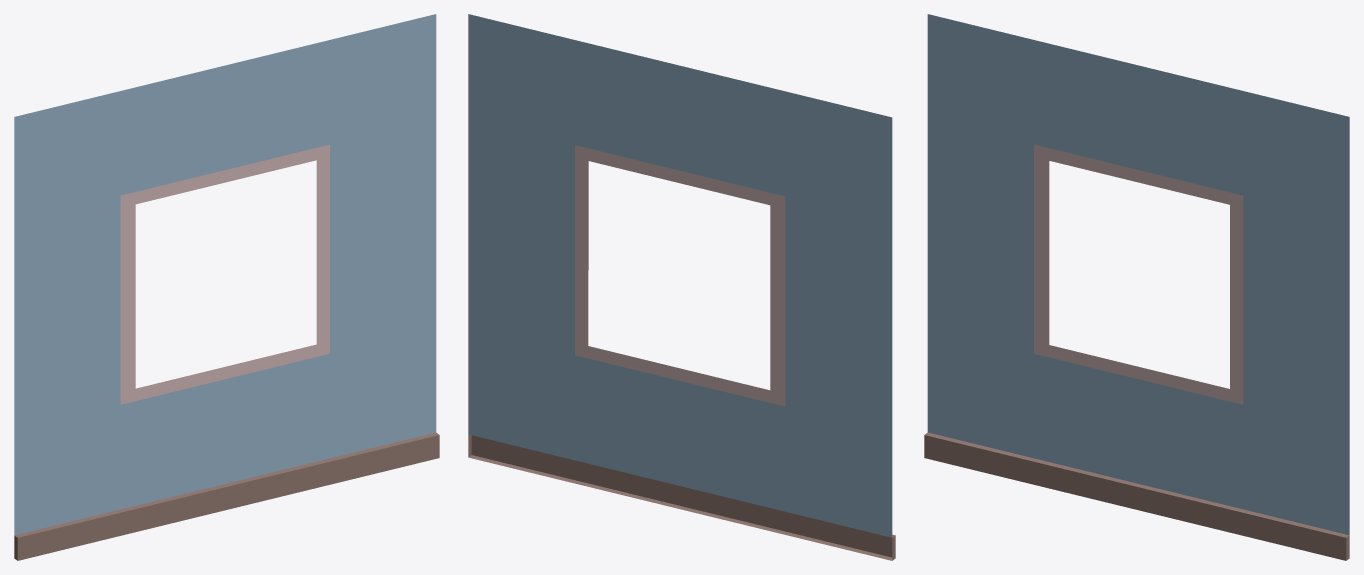
The model's file is wall window1.fbx.
The picture shows the model from 3 angles, left to right: view 1: azimuth 30°, elevation 25°; view 2: azimuth 150°, elevation 25°; view 3: azimuth 330°, elevation 25°; orthographic projection.
Parts seen in each view (by area): view 1: wall window 1; view 2: wall window 1; view 3: wall window 1.
Part boxes in pixels (bbox=[...]): wall window 1: bbox=[14, 14, 439, 560]; wall window 1: bbox=[468, 14, 895, 560]; wall window 1: bbox=[924, 14, 1349, 560].
Size of the model in its own units: 6 by 6 by 0.0848.
